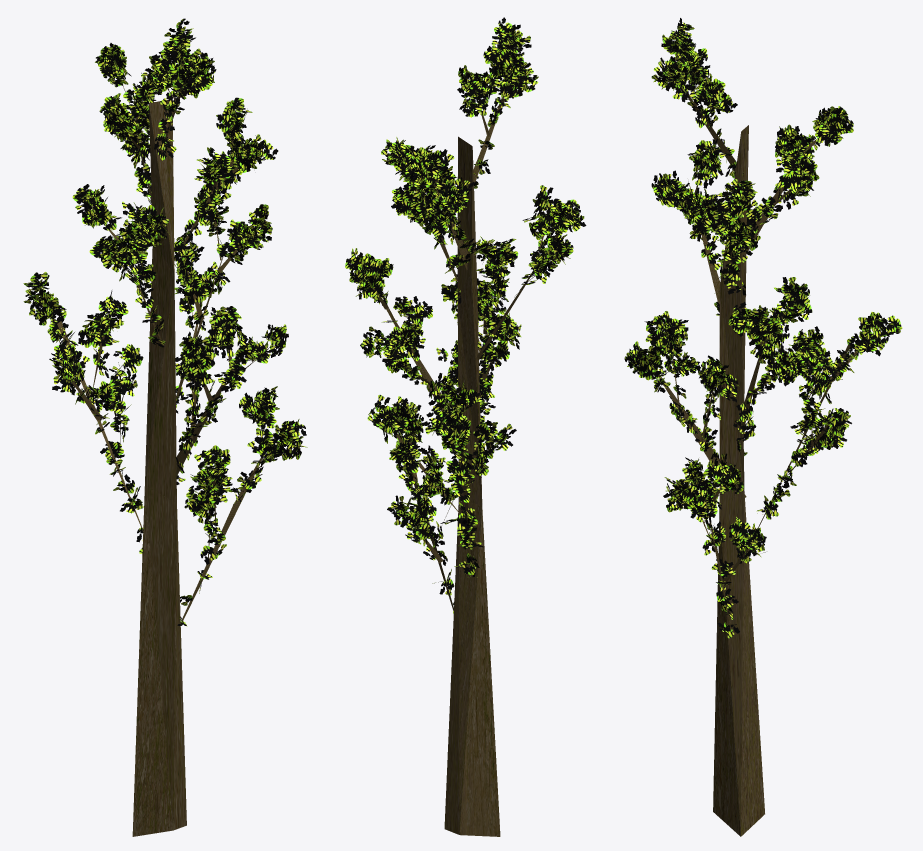
The model's file is baldcypress_v01_LOD2.fbx.
3 views of the same model, side by side, from view 1: azimuth 30°, elevation 25°; view 2: azimuth 150°, elevation 25°; view 3: azimuth 270°, elevation 25° (orthographic). The views are drawn at different scales.
Visible parts, largest first — view 1: baldcypress_v01_LOD2; view 2: baldcypress_v01_LOD2; view 3: baldcypress_v01_LOD2.
Boxes of the visible parts, x1=… form: baldcypress_v01_LOD2: x1=23, y1=18, x2=307, y2=836; baldcypress_v01_LOD2: x1=345, y1=17, x2=586, y2=836; baldcypress_v01_LOD2: x1=624, y1=18, x2=902, y2=836.
Bounding box in the file's own units: 774 × 897 × 2734.
2 materials, 2 textured.
